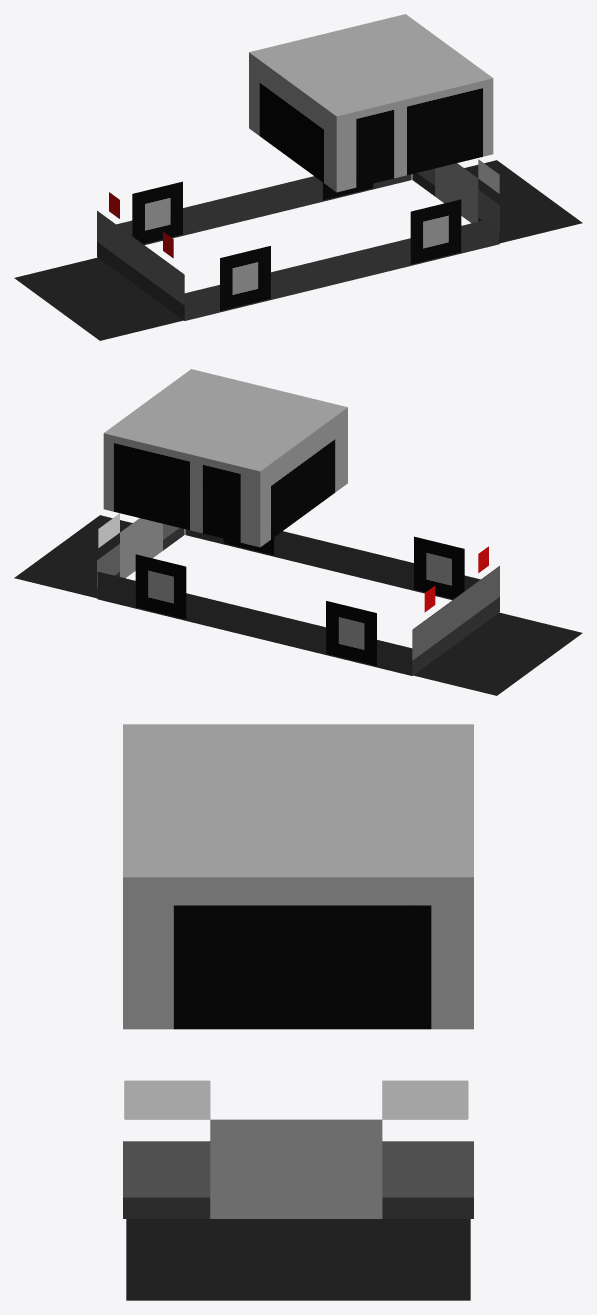
The model's file is Car_BasicPickup.fbx.
3 views of the same model, one above another, from view 1: azimuth 30°, elevation 25°; view 2: azimuth 150°, elevation 25°; view 3: azimuth 270°, elevation 25° (orthographic). The views are drawn at different scales.
Parts seen in each view (by area): view 1: Ute, ShadowLeft, ShadowRight; view 2: Ute, ShadowLeft, ShadowRight; view 3: Ute, ShadowRight.
Part boxes in pixels (x1,y1,x2,y2): Ute: (97, 14, 499, 320); ShadowLeft: (14, 257, 183, 340); ShadowRight: (464, 160, 582, 243); Ute: (97, 369, 499, 675); ShadowLeft: (413, 612, 582, 695); ShadowRight: (14, 515, 132, 598); Ute: (123, 724, 473, 1218); ShadowRight: (126, 1219, 470, 1300).
Bounding box in the file's own units: 700 × 307 × 232.
Materials: 2 (1 with a texture image).
